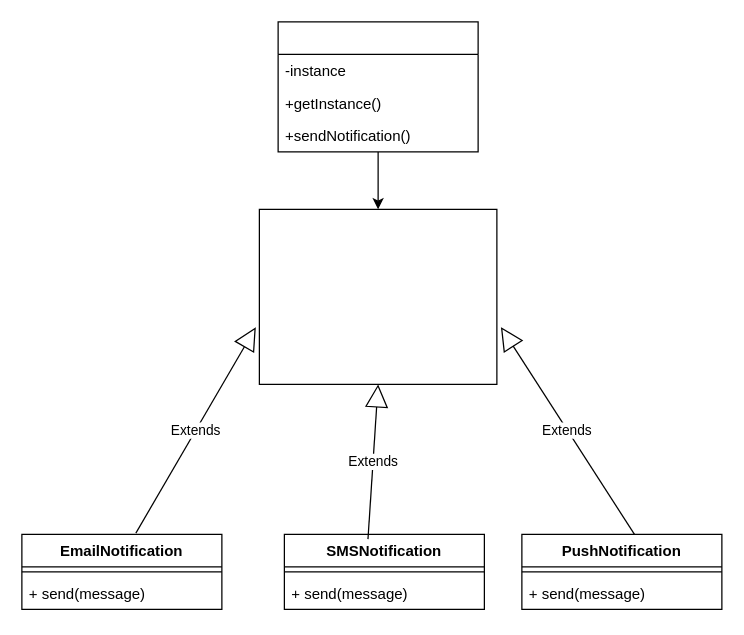
Image size: 744x635. Some labels were removed from this diagram. The box of each missing label's shape, as (x1, y1, x2, y2) in pixels:
<<Interface>> NotificationStratregy + send(message): (258, 208, 497, 384)
NotificationService: (277, 21, 478, 152)
